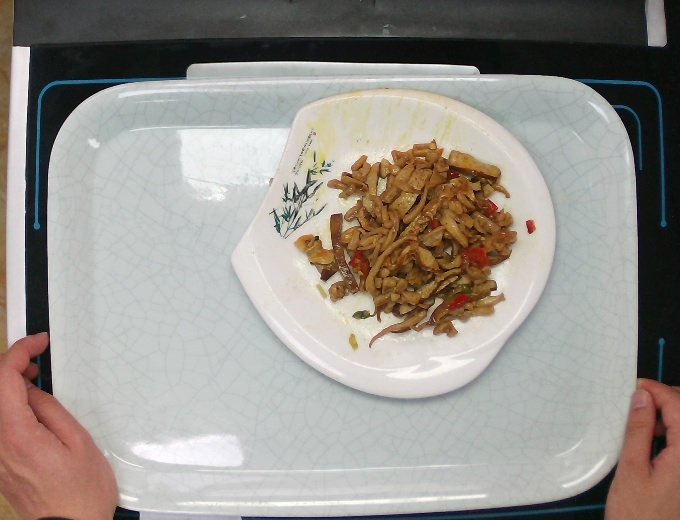JYsf-Mian_Pan: (230, 88, 561, 406)
